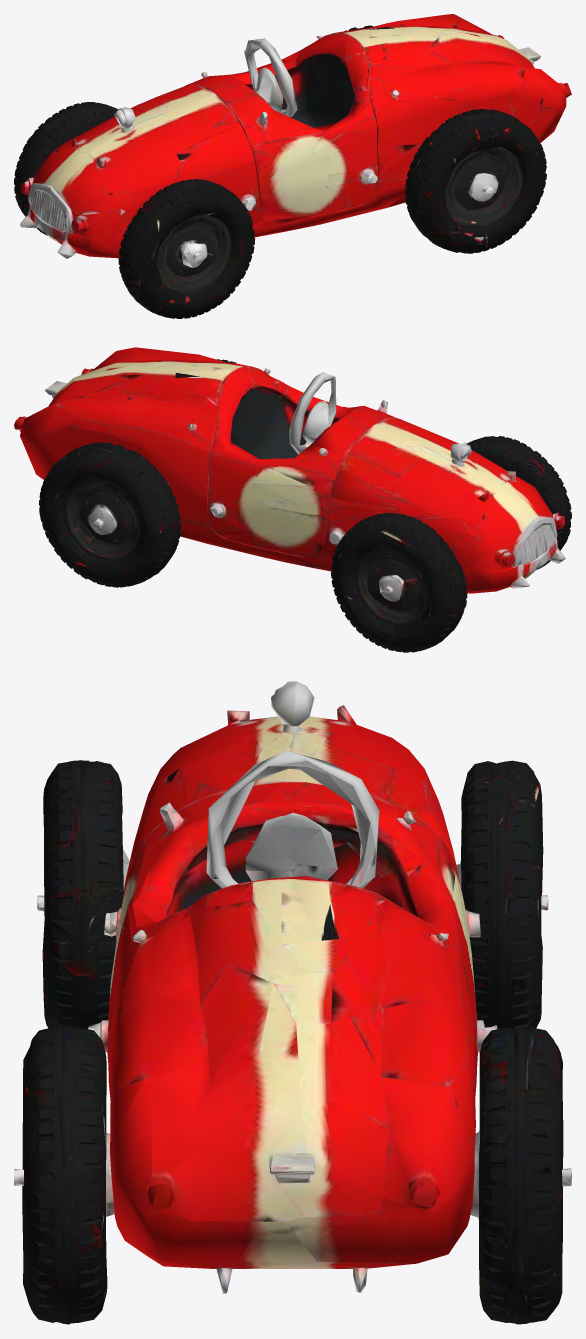
The model's file is car.glb.
3 renders of one model, top to bottom at view 1: azimuth 30°, elevation 25°; view 2: azimuth 150°, elevation 25°; view 3: azimuth 270°, elevation 25°, orthographic. The views are drawn at different scales.
Size of the model in its own units: 1.9 by 0.7492 by 0.9249.
1 material, 1 textured.
